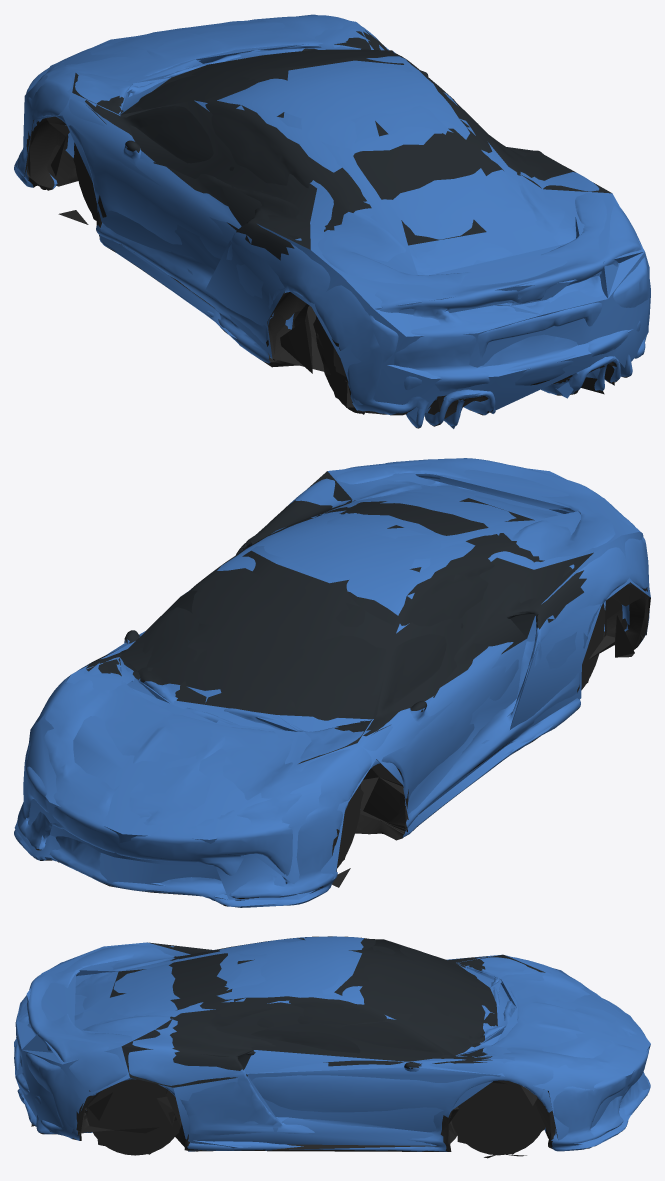
File: mclaren-gt.glb
The picture shows the model from 3 angles, top to bottom: view 1: azimuth 30°, elevation 25°; view 2: azimuth 150°, elevation 25°; view 3: azimuth 270°, elevation 25°; orthographic projection. The views are drawn at different scales.
Visible parts, largest first — view 1: body, far; view 2: body, far; view 3: body, far.
Part boxes in pixels (x1,y1,x2,y2): body: (14, 15, 650, 428); far: (15, 14, 649, 428); body: (14, 458, 649, 907); far: (14, 459, 650, 899); body: (14, 936, 650, 1158); far: (14, 938, 650, 1154).
Bounding box in the file's own units: 2.07 × 1.28 × 4.76.
